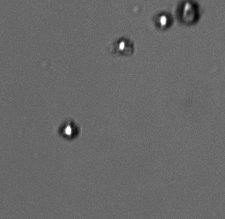Dead Cell: (177, 1, 201, 26)
Living Cell: (57, 118, 80, 141), (152, 9, 174, 31), (113, 35, 134, 55)
